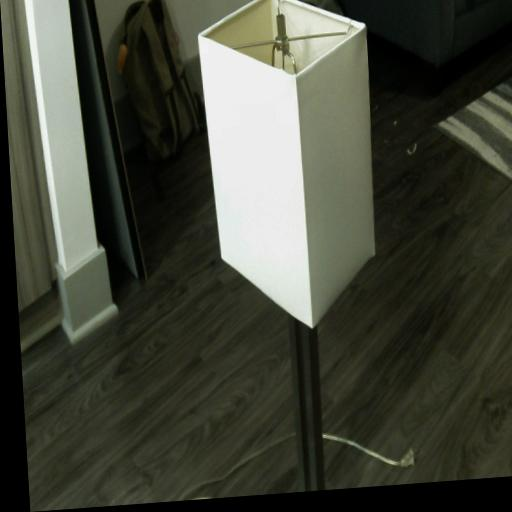lamp: (196, 0, 395, 498)
